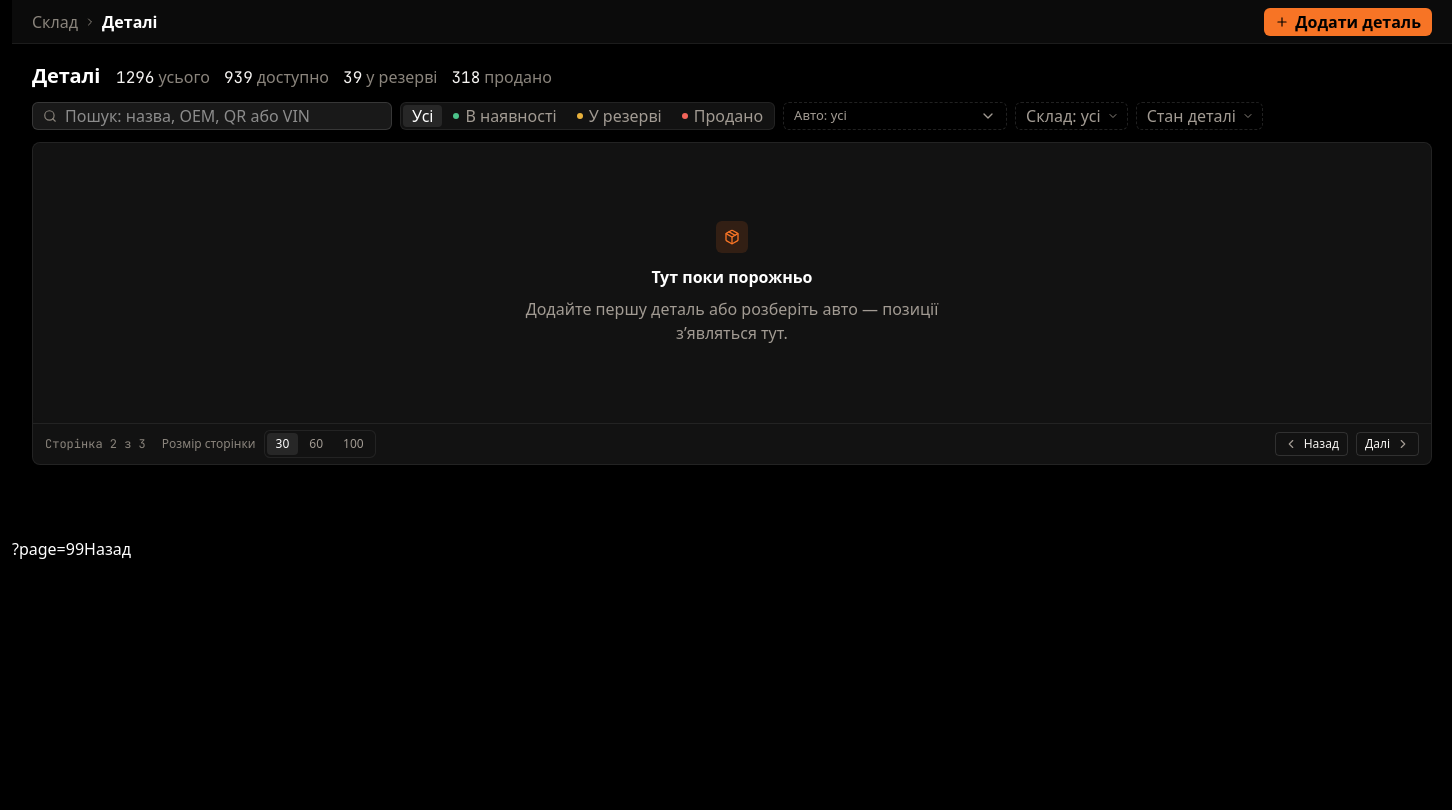
Scenario: uses server-authoritative pagination metadata for previous and next links
Expected: the text "Сторінка 2 з 3" is shown, x1=45 y1=435 x2=146 y2=453
Click the button with aria-label "Наступна сторінка": [1387, 444] box x1=1356 y1=432 x2=1419 y2=456
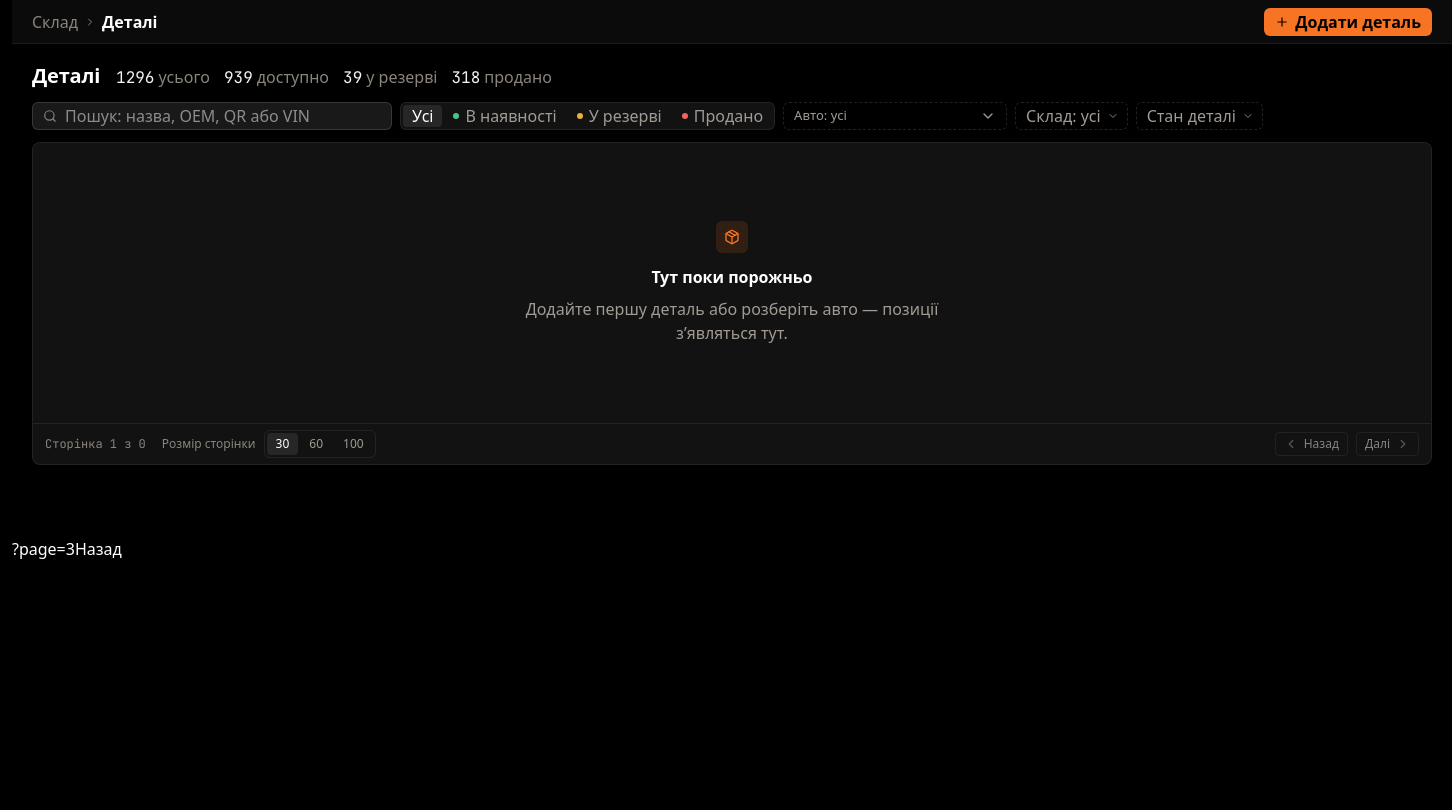
Expected: the text named "Поточний маршрут" shows "page=3", x1=12 y1=538 x2=75 y2=560
